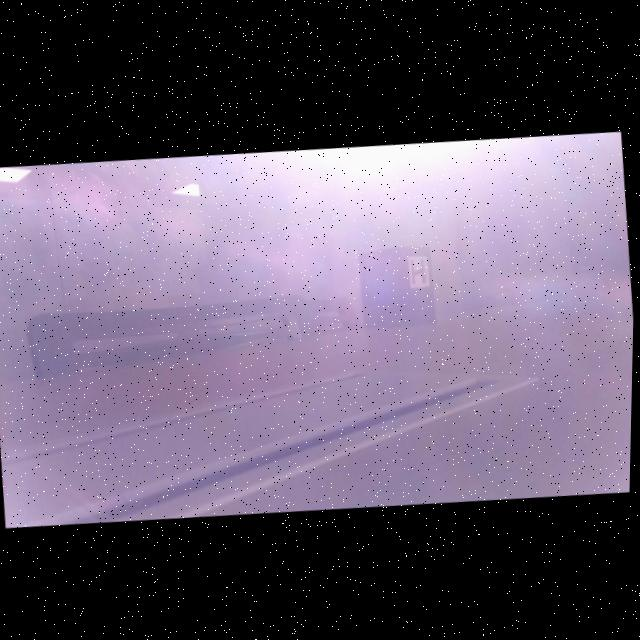H: (412, 256, 426, 281)
